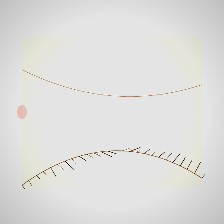hemorrhage_spot: (120, 72, 183, 122)
